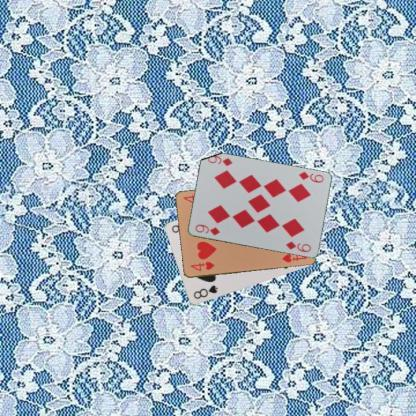4h: (188, 259, 216, 273)
8s: (191, 282, 220, 300)
9d: (192, 222, 221, 237), (296, 170, 325, 184)
